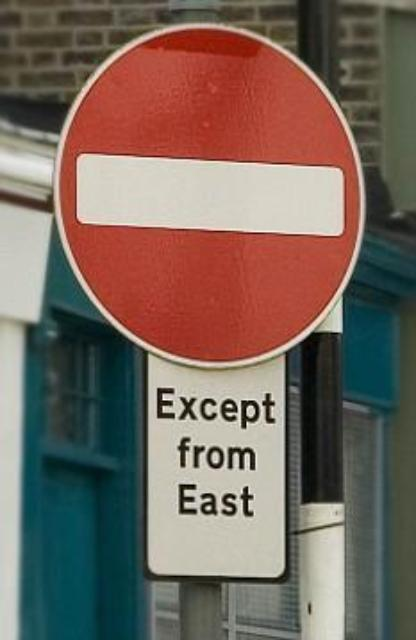B2: (48, 20, 368, 368)
